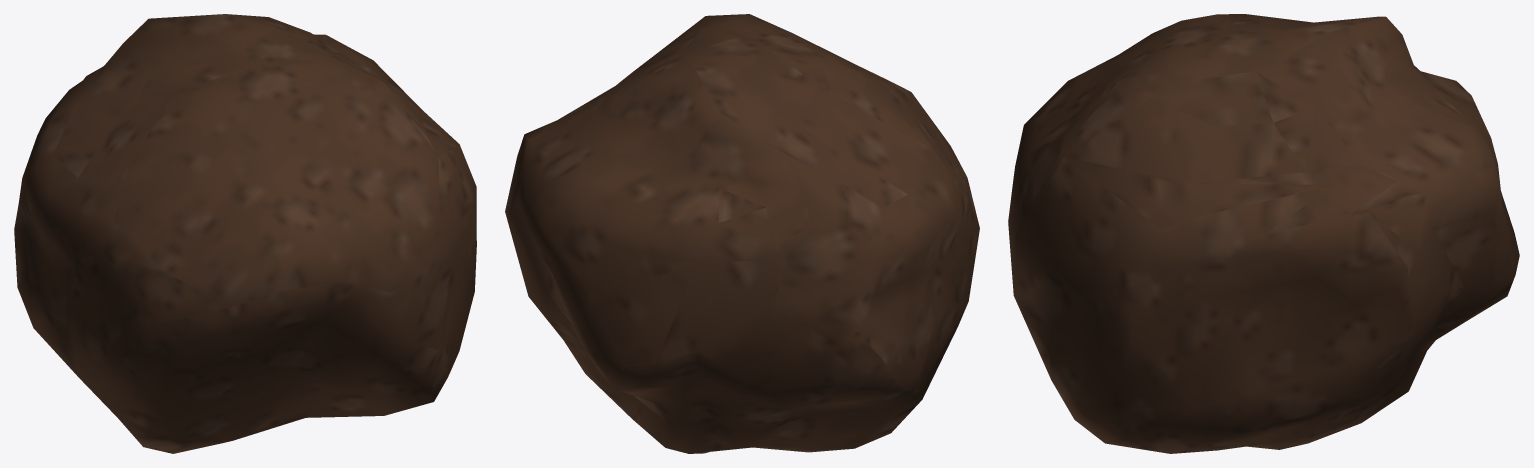
The model's file is PieceOfLand2.fbx.
3 views of the same model, side by side, from view 1: azimuth 30°, elevation 25°; view 2: azimuth 150°, elevation 25°; view 3: azimuth 270°, elevation 25° (orthographic). The views are drawn at different scales.
Parts seen in each view (by area): view 1: PieceOfLand2; view 2: PieceOfLand2; view 3: PieceOfLand2.
Part boxes in pixels (x1,y1,x2,y2): PieceOfLand2: (14, 14, 476, 453); PieceOfLand2: (505, 14, 979, 453); PieceOfLand2: (1008, 14, 1519, 453).
Bounding box in the file's own units: 180 × 174 × 200.
Materials: 1 (1 with a texture image).
